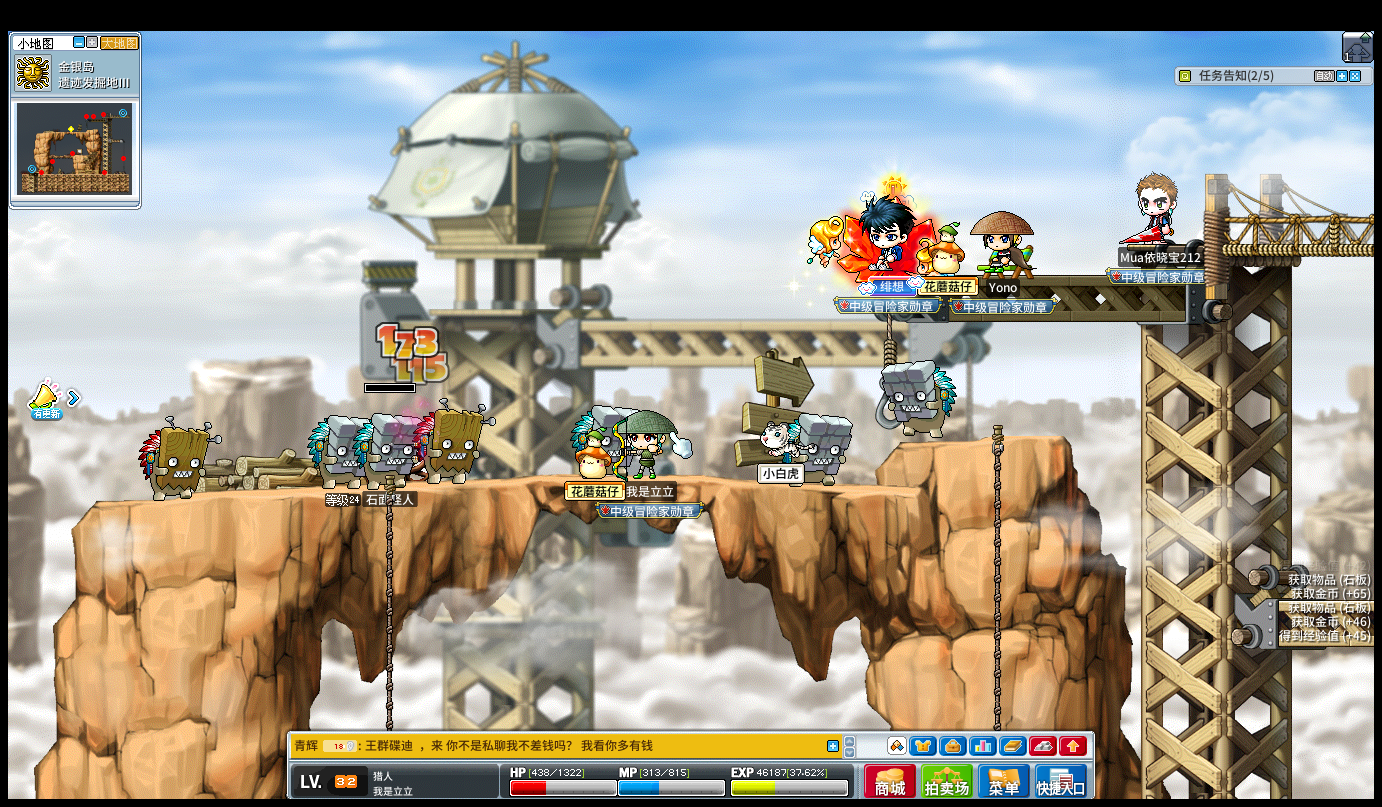floor: (81, 472, 980, 500), (97, 471, 964, 492), (903, 433, 1065, 447)
monster: (137, 418, 217, 500), (879, 358, 956, 442), (413, 401, 491, 483), (792, 412, 854, 485), (354, 412, 412, 487), (306, 414, 356, 489)
rope: (381, 471, 395, 807), (989, 424, 1004, 723), (382, 479, 395, 741), (383, 478, 394, 680), (990, 630, 1003, 722)
